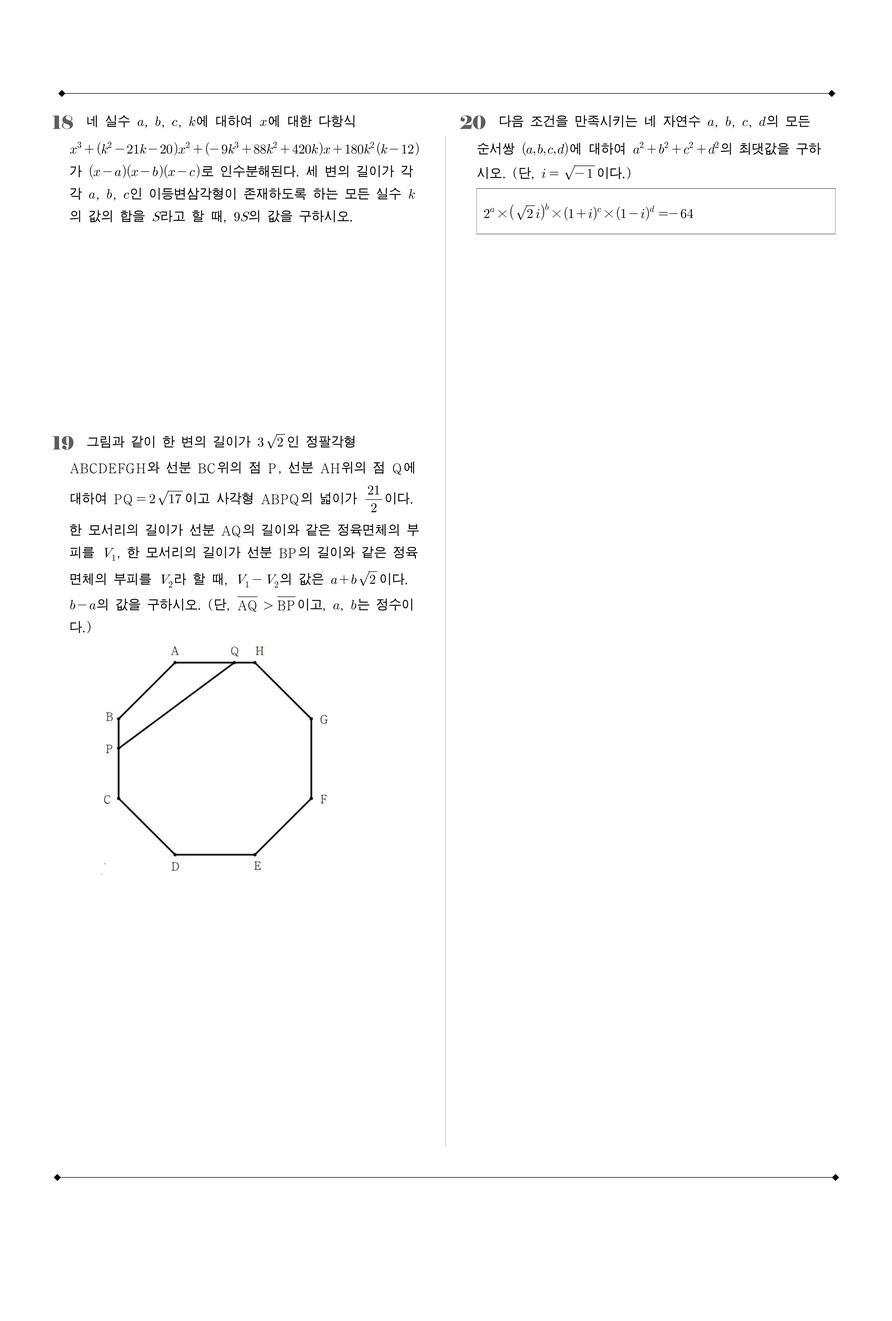problem: (44, 417, 431, 876), (457, 108, 844, 247), (47, 101, 436, 238)
